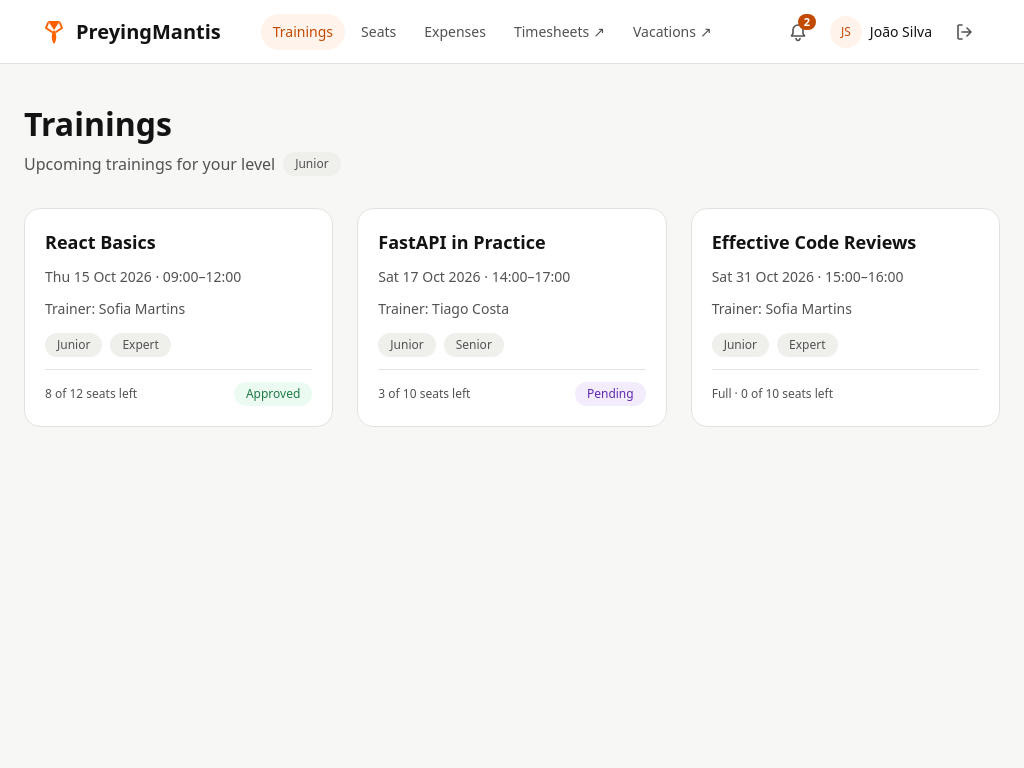
it: logout › clears the token and goes to /login
Click the button named "Log out": (964, 32) [944,12,984,52]
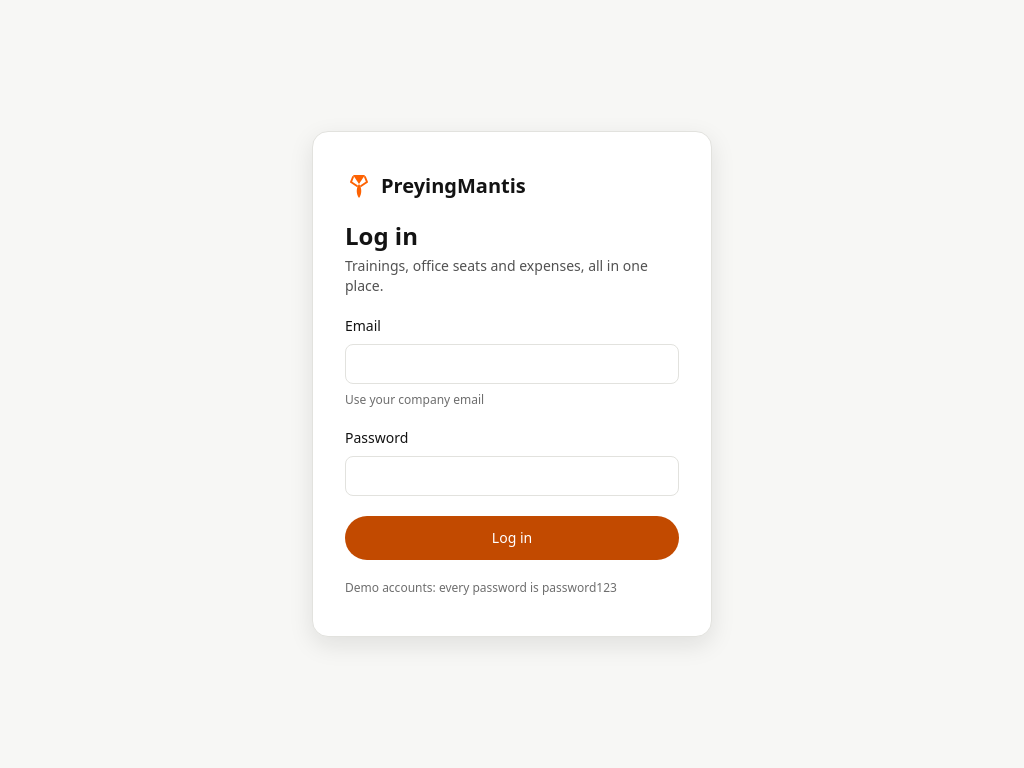
Check: the heading "Log in" is shown, box [345,219,418,252]
